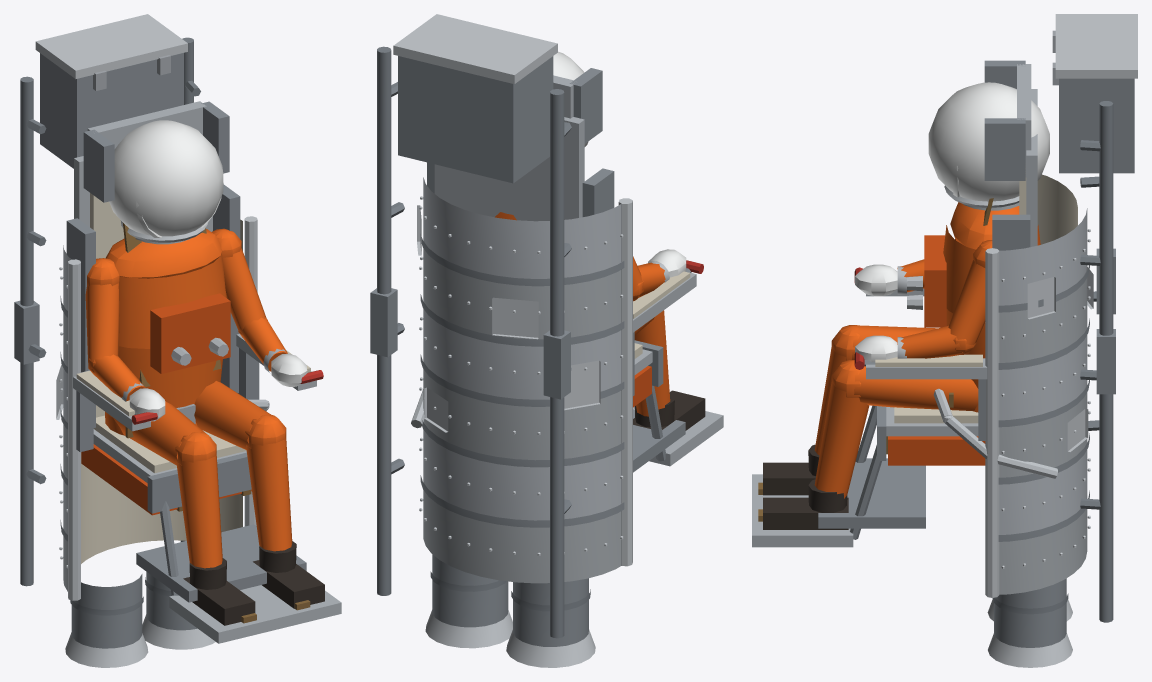
File: vostok-seat.glb
The picture shows the model from 3 angles, left to right: view 1: azimuth 30°, elevation 25°; view 2: azimuth 150°, elevation 25°; view 3: azimuth 270°, elevation 25°; orthographic projection. The views are drawn at different scales.
Parts seen in each view (by area): view 1: body (×2); view 2: body (×2); view 3: body (×2).
Boxes of the visible parts, box(x1,y1,x2,y2) form: body (×2): box(14, 14, 341, 667); body (×2): box(370, 14, 723, 667); body (×2): box(752, 14, 1137, 667).
Size of the model in its own units: 0.704 by 2.06 by 1.22.
